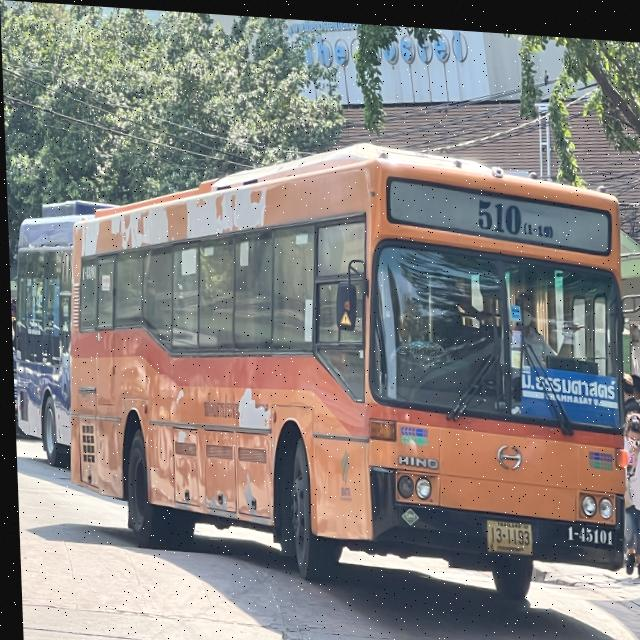BMTA-bus: (64, 140, 640, 596)
Bus Line Number: (470, 184, 557, 240)
Bus Side Number: (561, 513, 611, 541)
Destination Sign: (517, 357, 618, 420)
TSB-Bus: (10, 203, 98, 463)
